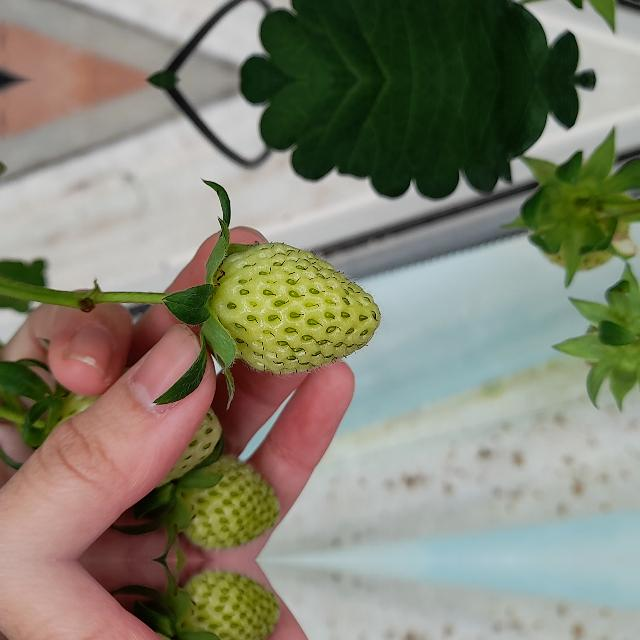Health_25: (210, 242, 380, 374), (178, 455, 282, 547), (178, 573, 282, 640)
